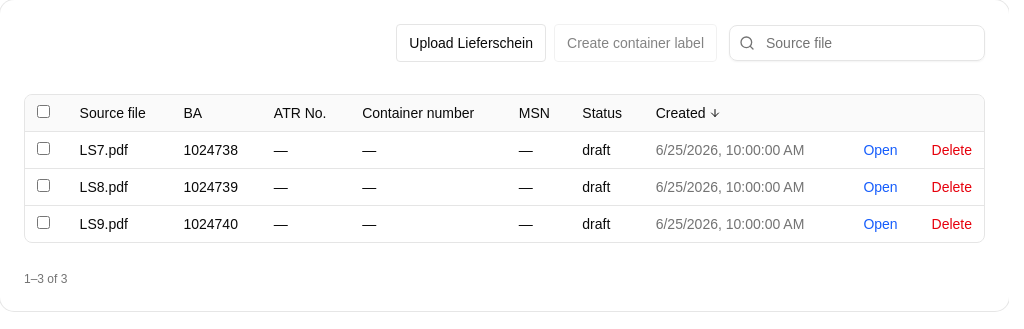
it: AtrDeliveriesPage › assigns the selected deliveries to a container and downloads the label
expect the row with test id "atr-delivery-7" is shown: met, box [25,132,984,168]
expect the button "Create container label" is disabled: met, box [554,24,717,62]
Click the checkbox with test id "atr-delivery-select-7" at (44, 148), box [37,142,50,155]
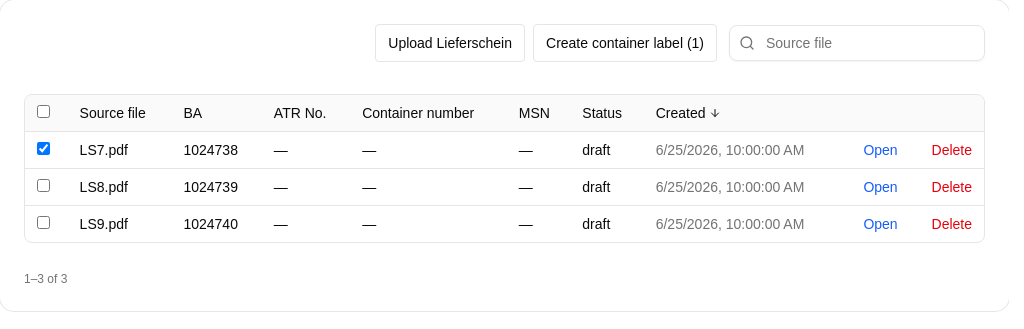
Click the checkbox with test id "atr-delivery-select-9" at (44, 222), box [37,216,50,229]
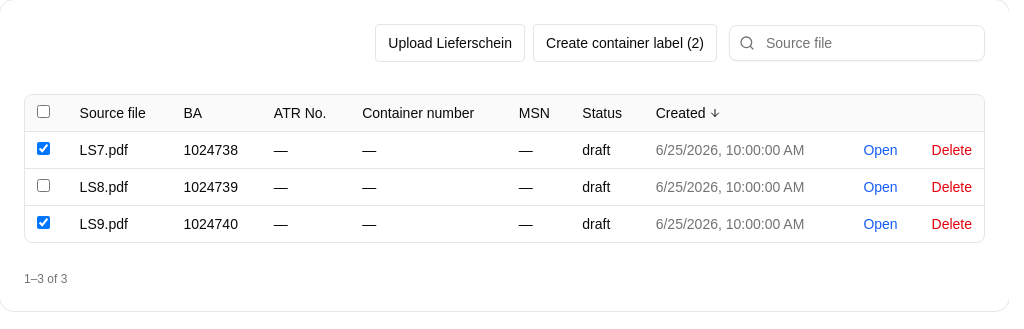
expect the button "Create container label (2)" is enabled: met
expect the button "Create container label (2)" is shown: met
Click the button "Create container label (2)" at (625, 43), box [533,24,717,62]
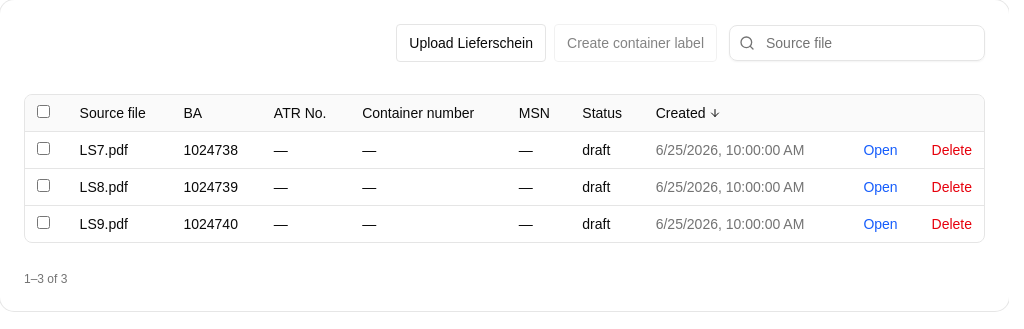
expect the button "Create container label" is disabled: met, box [554,24,717,62]
